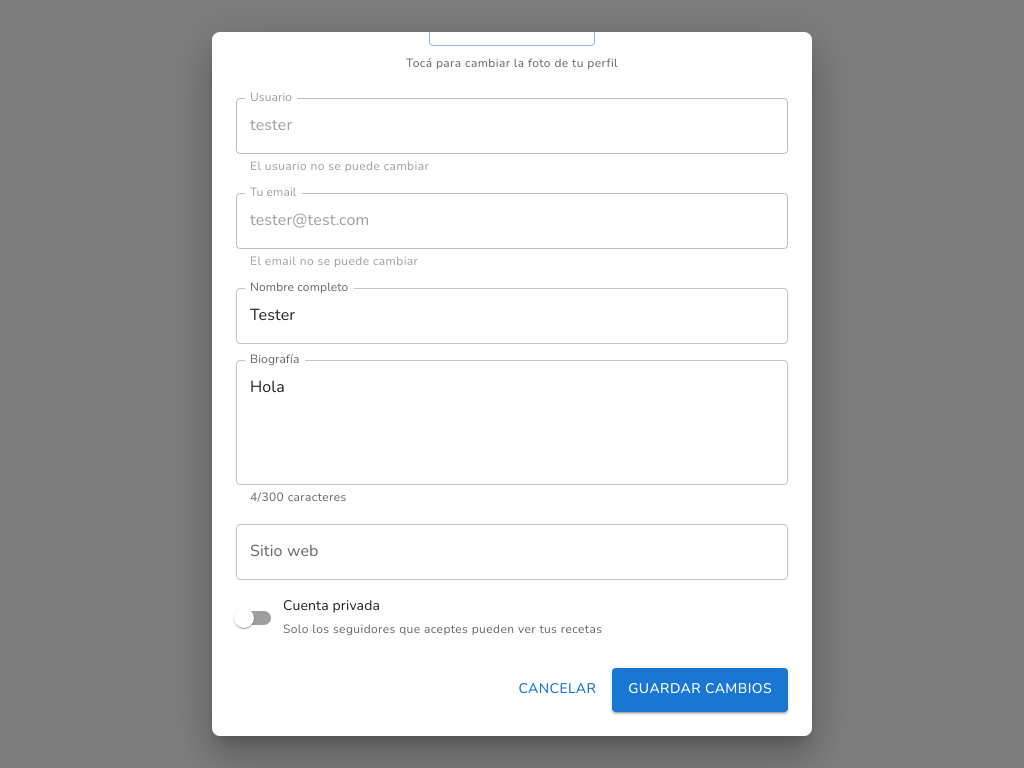
Test: EditProfileModal in Spanish › should reject a website without a scheme in Spanish
The width and height of the screenshot is (1024, 768).
(page scrolled)
Type "ftp://nope.com" into the field labelled "Sitio web" at [512, 552], box [236,524,788,580]
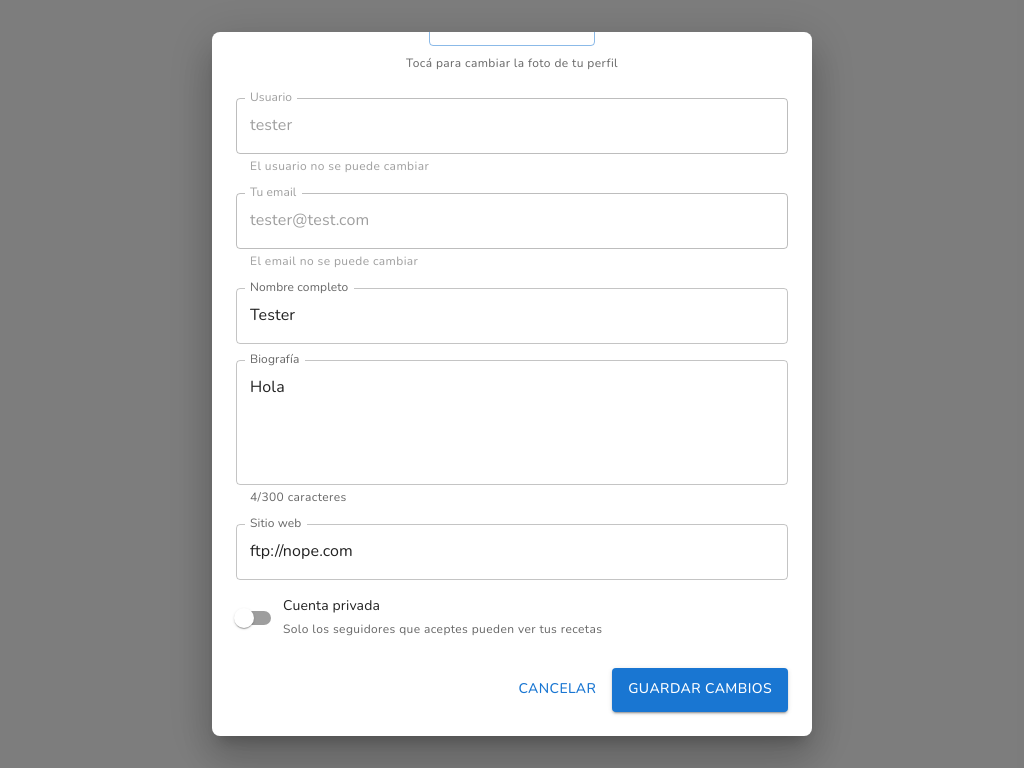
Click the button "Guardar cambios" at [700, 690], box [612,668,788,712]
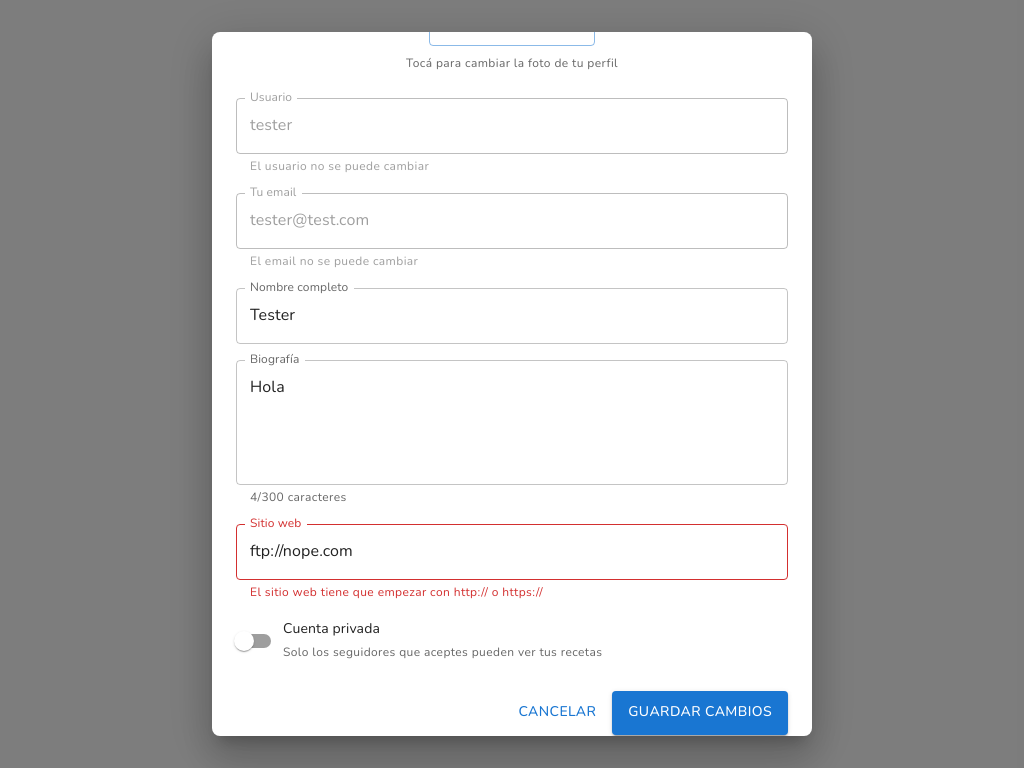
Expected: the text "El sitio web tiene que empezar con http:// o https://" is shown, [250,584,543,600]
